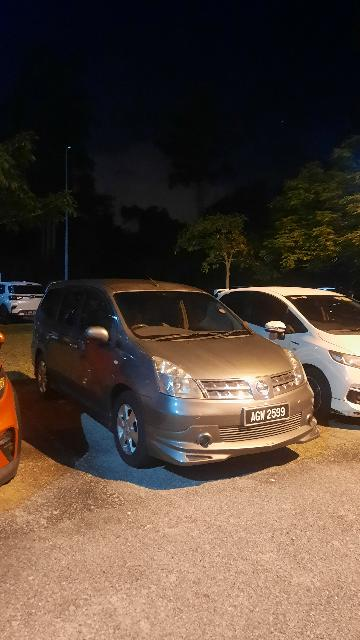License_Plate: (239, 401, 292, 427)
car: (32, 275, 328, 477), (207, 286, 360, 427)
